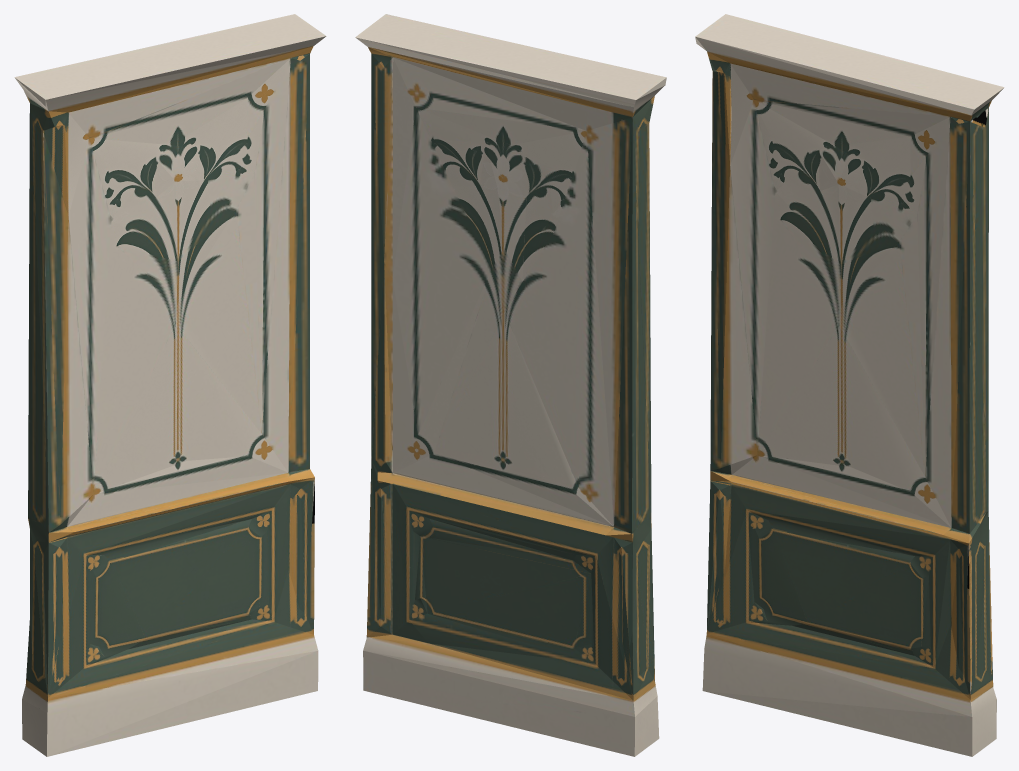
File: item06.glb
3 views of the same model, side by side, from view 1: azimuth 30°, elevation 25°; view 2: azimuth 150°, elevation 25°; view 3: azimuth 330°, elevation 25° (orthographic).
Parts seen in each view (by area): view 1: output_unwrapped; view 2: output_unwrapped; view 3: output_unwrapped.
Boxes of the visible parts, left/top/right/bottom form: output_unwrapped: left=14, top=14, right=326, bottom=756; output_unwrapped: left=355, top=14, right=666, bottom=756; output_unwrapped: left=695, top=14, right=1004, bottom=756.
Bounding box in the file's own units: 0.4457 × 1 × 0.0859.
1 material, 1 textured.
